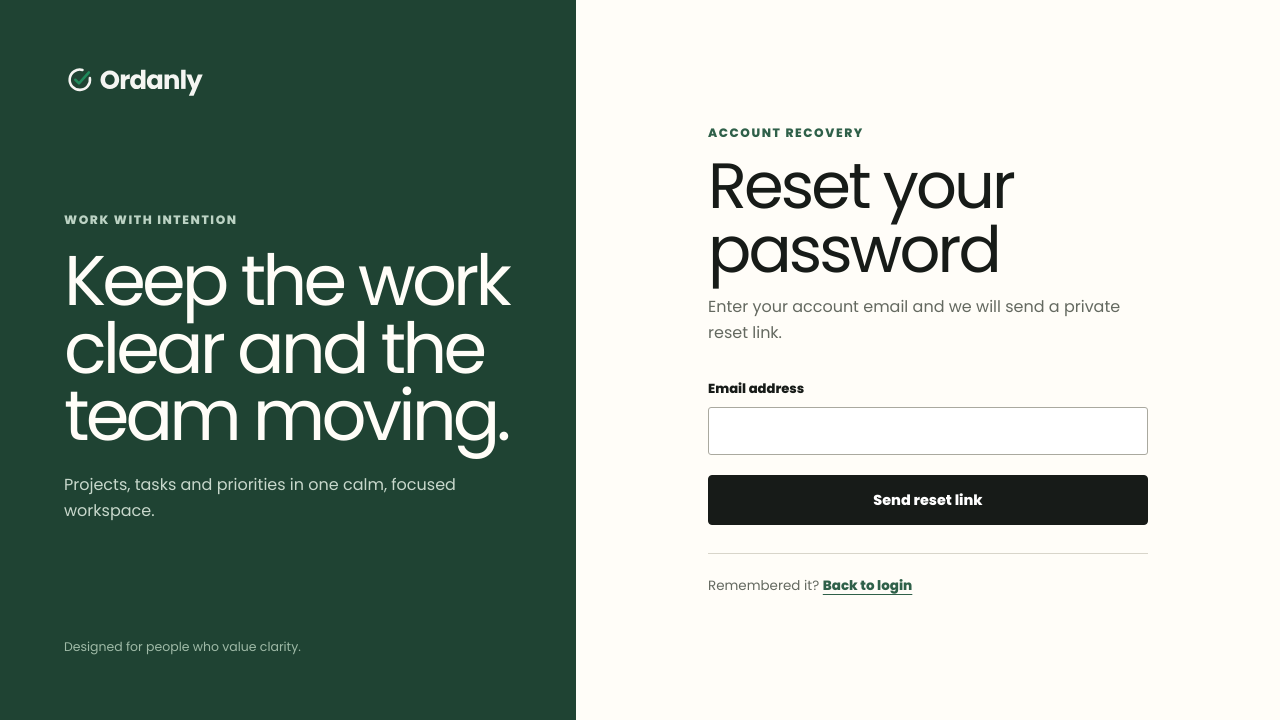
Email verification and password recovery pages › requests a reset link without exposing account existence
Type "AHMAD@EXAMPLE.COM" into the field labelled "Email address" at point(928, 431), box [708, 407, 1148, 455]
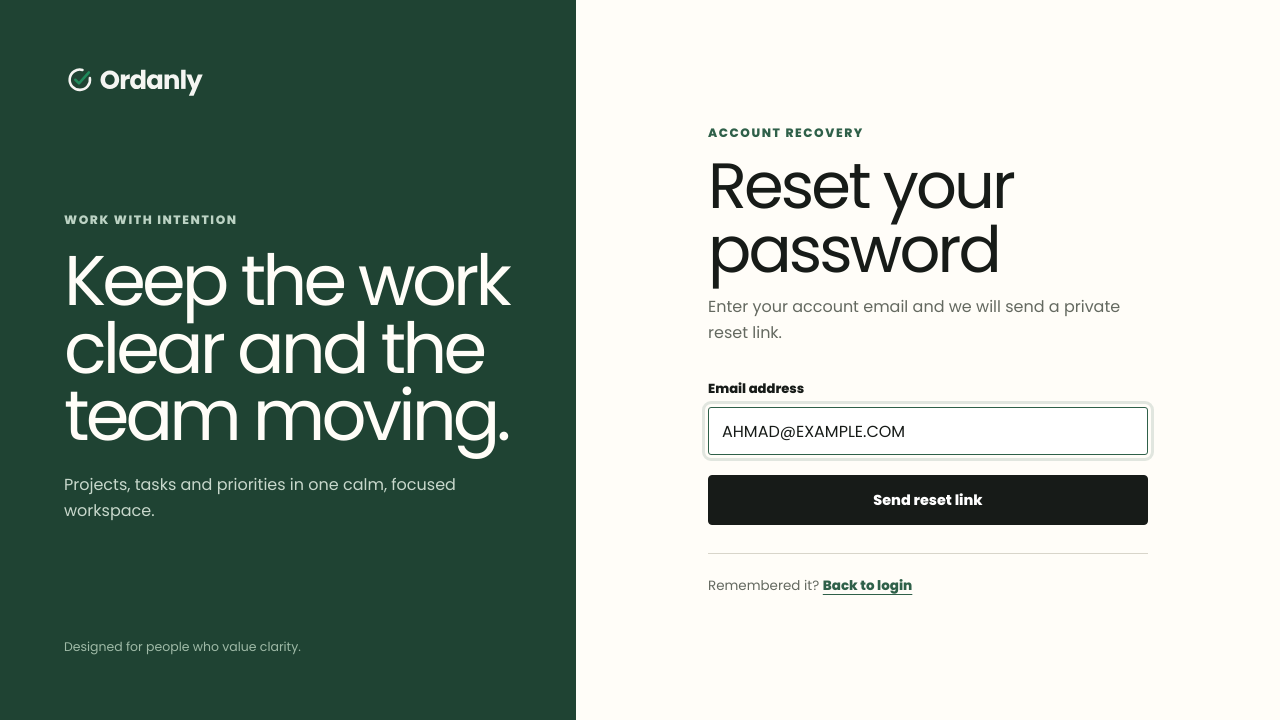
Click the button "Send reset link" at point(928, 500), box [708, 475, 1148, 525]
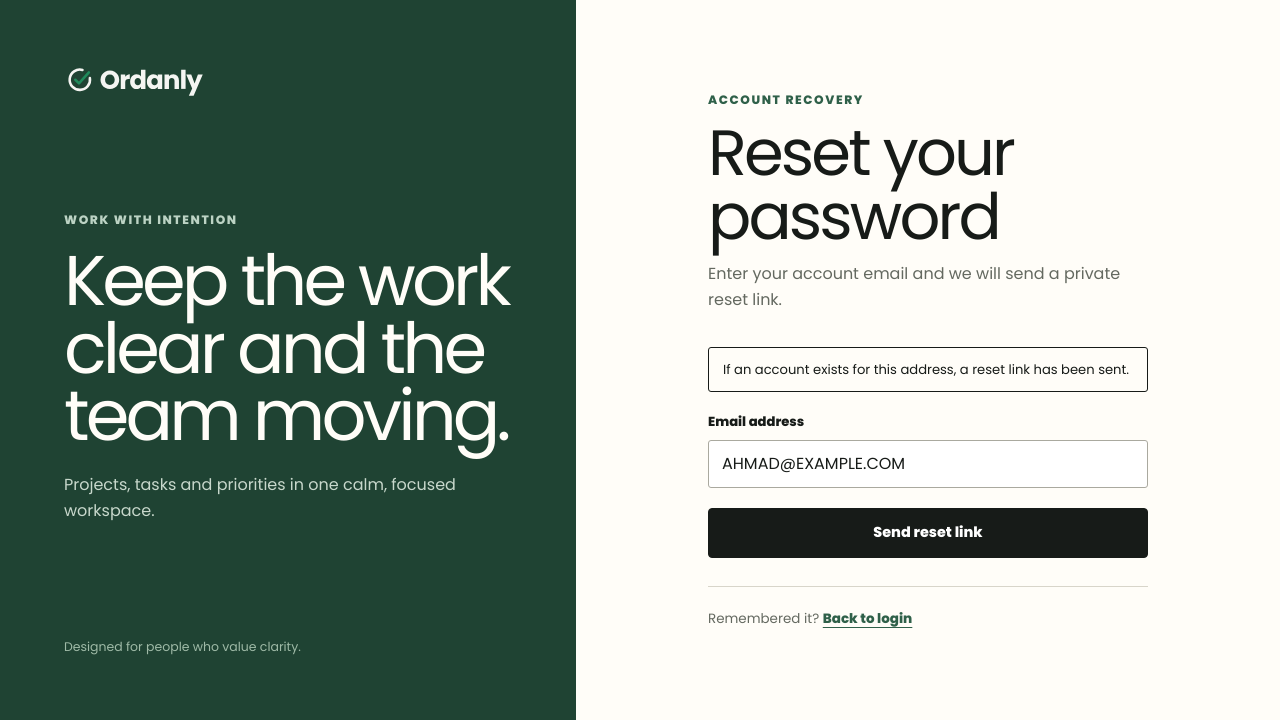
Expected: the message shows "If an account exists", [723, 360, 1129, 379]
